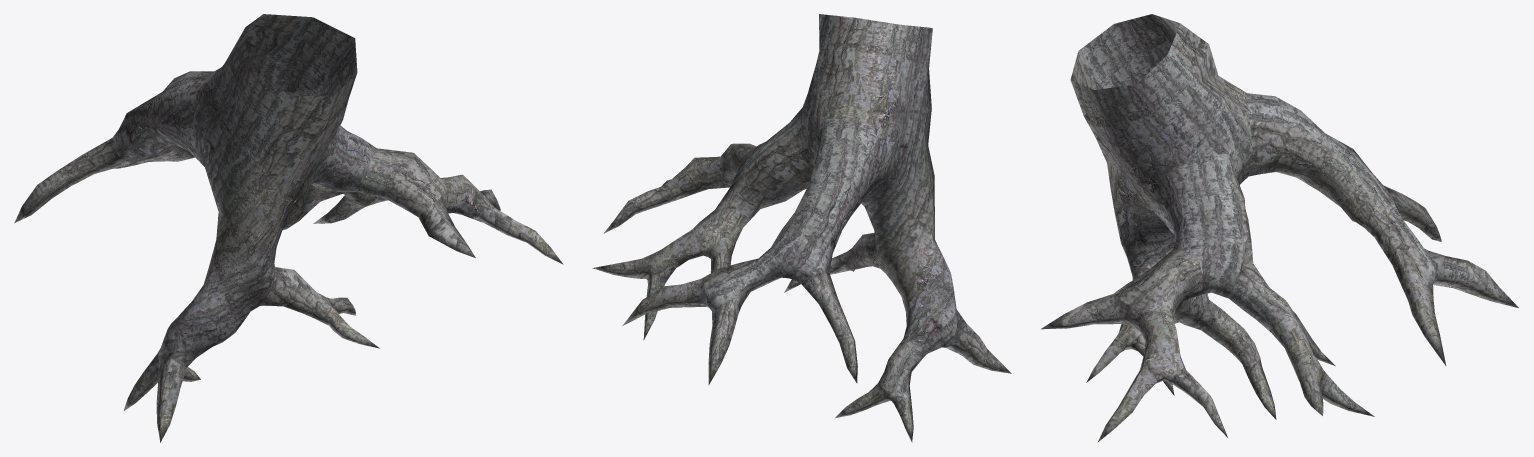
File: tree2_bottom.fbx
3 renders of one model, left to right at view 1: azimuth 30°, elevation 25°; view 2: azimuth 150°, elevation 25°; view 3: azimuth 270°, elevation 25°, orthographic. The views are drawn at different scales.
Visible parts, largest first — view 1: tree2_bottom; view 2: tree2_bottom; view 3: tree2_bottom.
Part boxes in pixels (left/top/right/bottom): tree2_bottom: left=14, top=14, right=563, bottom=442; tree2_bottom: left=592, top=14, right=1011, bottom=442; tree2_bottom: left=1041, top=14, right=1518, bottom=442.
Bounding box in the file's own units: 578 × 570 × 598.
